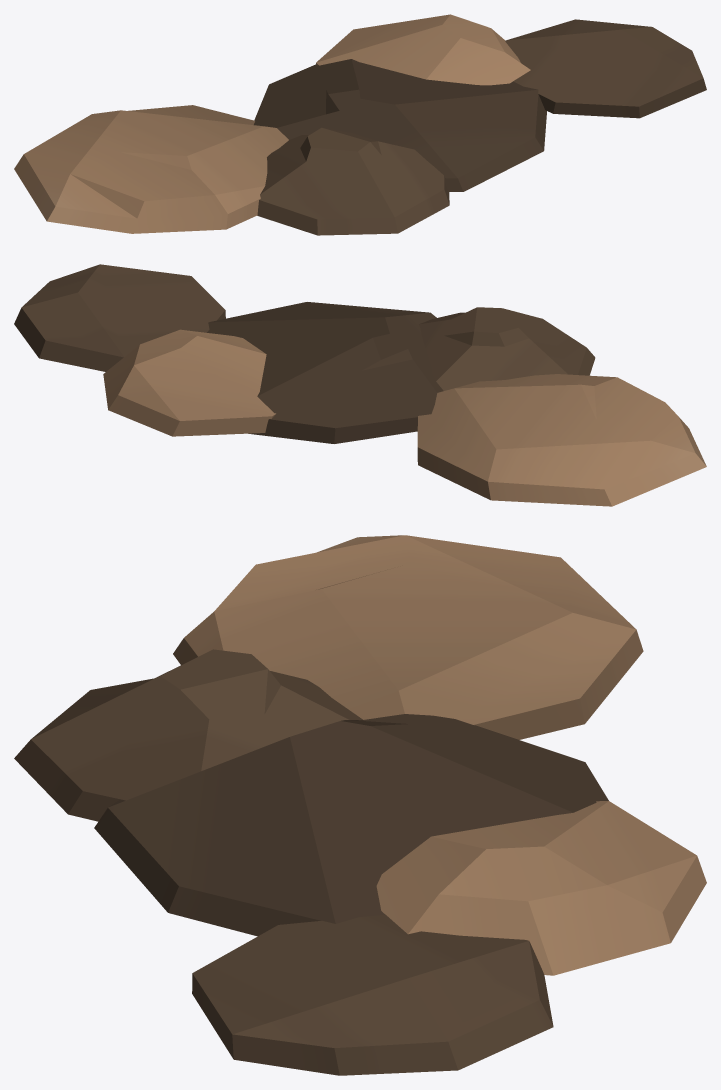
Rendered from ea_swamp_grass_hill_dead_01c_pre_6_lev1.glb.
3 views of the same model, one above another, from view 1: azimuth 30°, elevation 25°; view 2: azimuth 150°, elevation 25°; view 3: azimuth 270°, elevation 25° (orthographic). The views are drawn at different scales.
Parts seen in each view (by area): view 1: ea_swamp_grass_hill_dead_01c_pre_6_lev1; view 2: ea_swamp_grass_hill_dead_01c_pre_6_lev1; view 3: ea_swamp_grass_hill_dead_01c_pre_6_lev1.
Part boxes in pixels (x1,y1,x2,y2): ea_swamp_grass_hill_dead_01c_pre_6_lev1: (14,14,706,235); ea_swamp_grass_hill_dead_01c_pre_6_lev1: (14,264,706,506); ea_swamp_grass_hill_dead_01c_pre_6_lev1: (14,535,706,1075).
Size of the model in its own units: 3.72 by 0.2855 by 2.04.
Materials: 1 (1 with a texture image).
